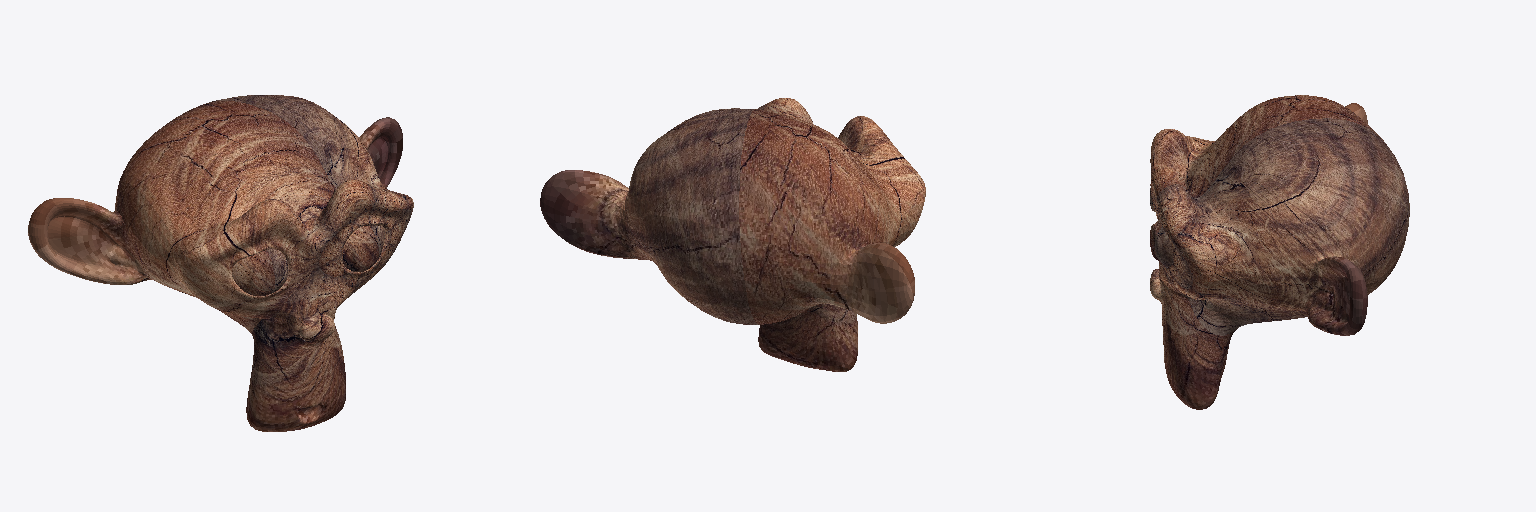
The picture shows the model from 3 angles: view 1: azimuth 30°, elevation 25°; view 2: azimuth 150°, elevation 25°; view 3: azimuth 270°, elevation 25°; orthographic projection.
Parts seen in each view (by area): view 1: Suzanne; view 2: Suzanne; view 3: Suzanne.
Part boxes in pixels (left/top/right/bottom): Suzanne: left=28, top=95, right=413, bottom=431; Suzanne: left=540, top=98, right=925, bottom=371; Suzanne: left=1150, top=95, right=1409, bottom=409.
Size of the model in its own units: 2.66 by 1.92 by 1.61.
1 materials, 1 textured.